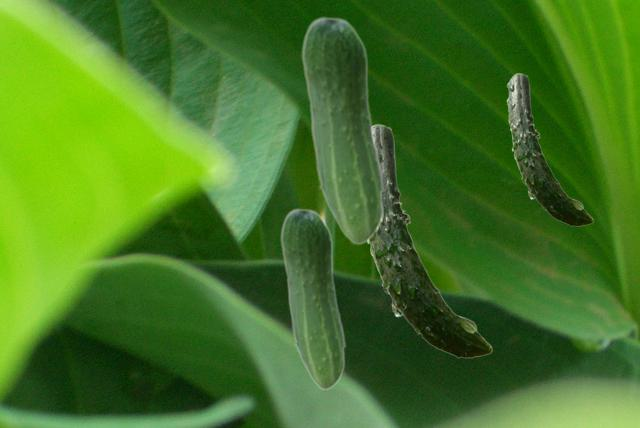cucumber: (367, 124, 491, 357), (301, 15, 384, 244), (506, 73, 592, 225), (280, 207, 345, 389)
